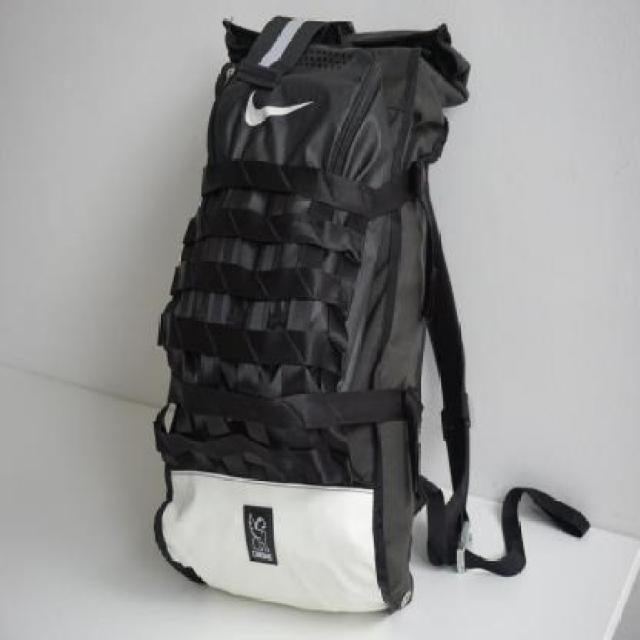backpack: (148, 8, 477, 623)
